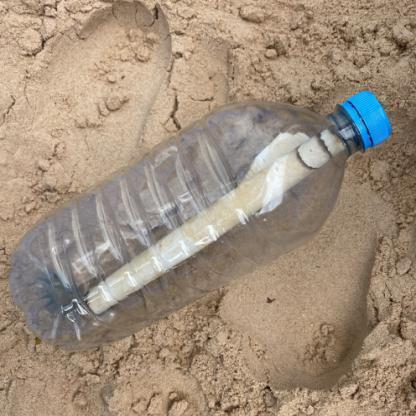bottle: (5, 58, 398, 362)
